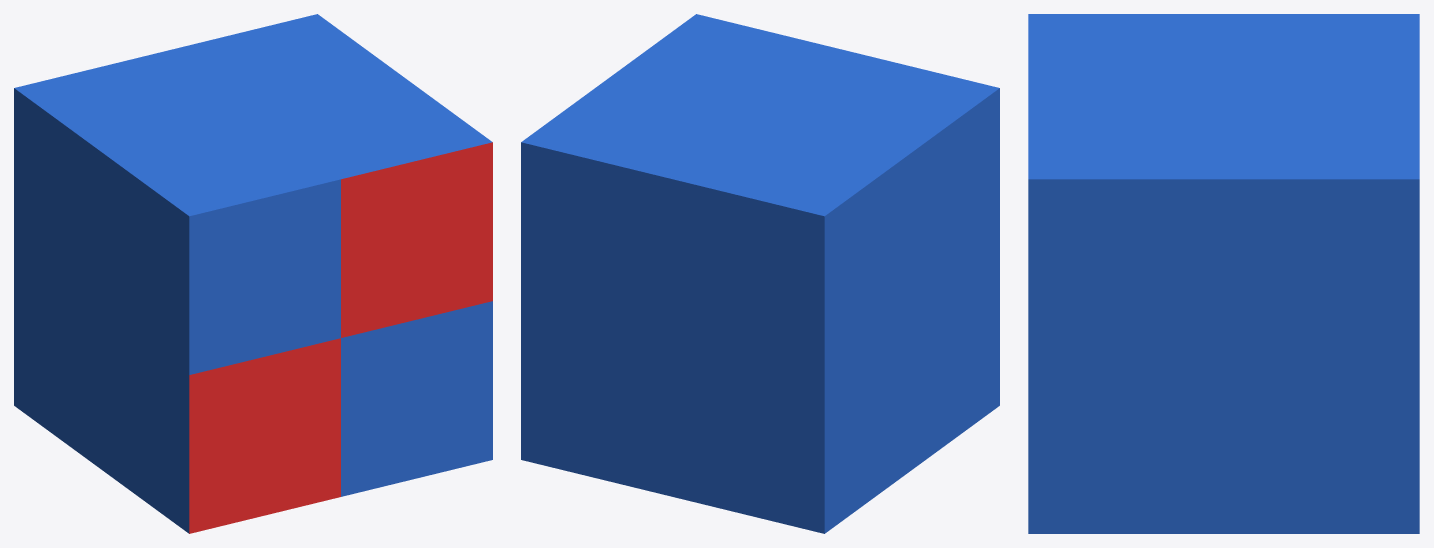
The picture shows the model from 3 angles, left to right: view 1: azimuth 30°, elevation 25°; view 2: azimuth 150°, elevation 25°; view 3: azimuth 270°, elevation 25°; orthographic projection. The views are drawn at different scales.
Parts seen in each view (by area): view 1: Cube; view 2: Cube; view 3: Cube.
Boxes of the visible parts, x1,y1,x2,y2 form: Cube: [14, 14, 492, 533]; Cube: [521, 14, 999, 533]; Cube: [1028, 14, 1419, 533].
Size of the model in its own units: 2 by 2 by 2.
